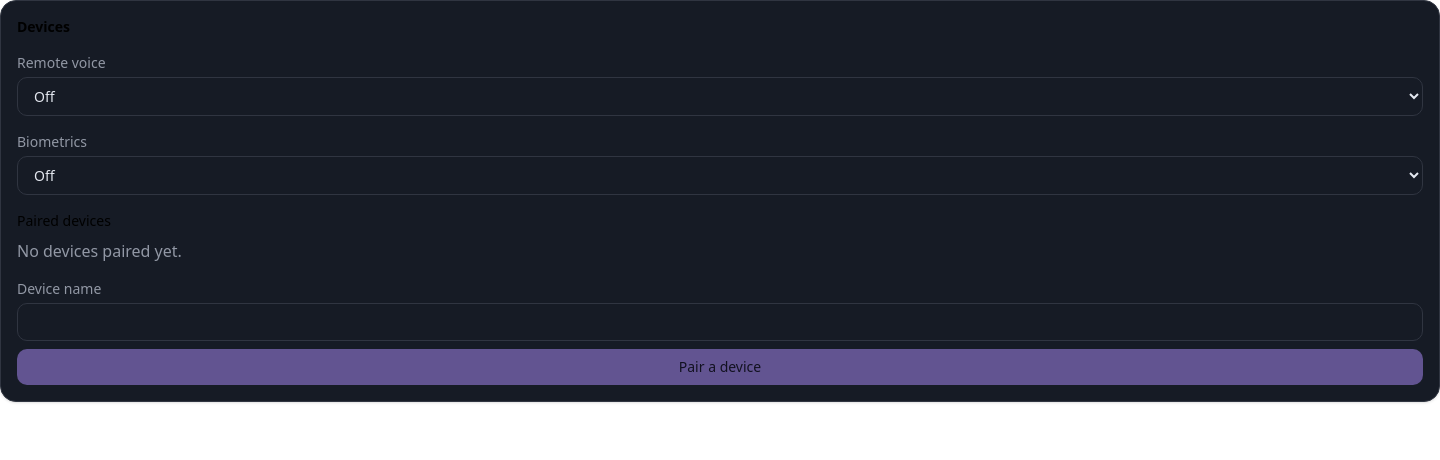
DevicesPanel (TK-342 AC4: independent consent toggles + restart notice) › switching Remote voice On never touches Biometrics, and shows the restart notice
Expected: the text "No devices paired yet." is shown, [17,240,182,262]
Expected: the text "Restart Wombat to apply these changes." is not shown
Select "On" in the dropdown labelled "Remote voice" at (720, 96), box [17,77,1423,116]
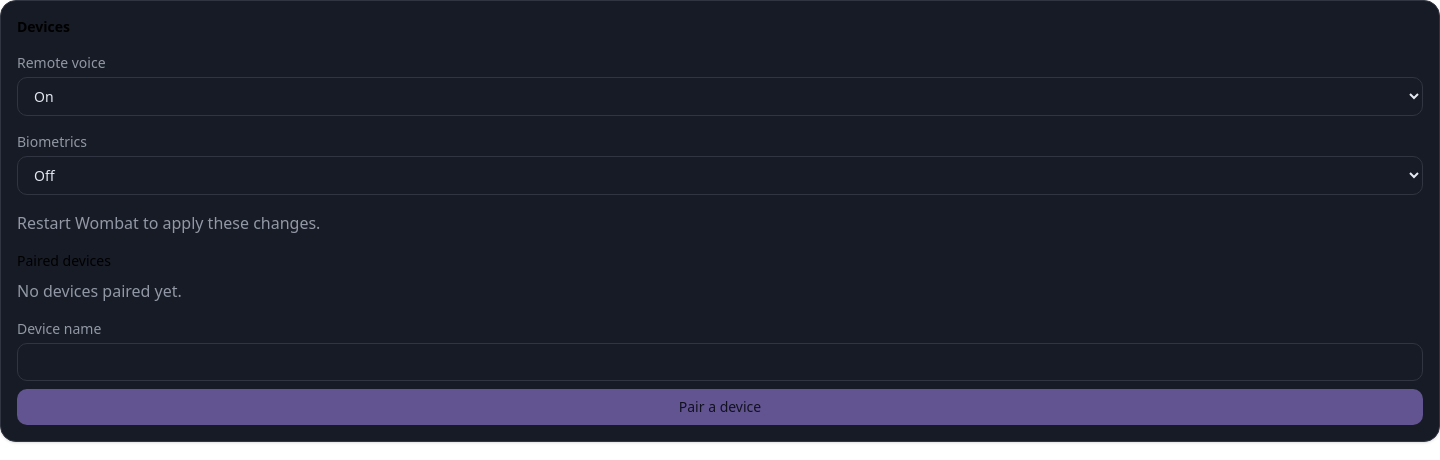
Expected: the dropdown labelled "Biometrics" shows "Off", [17,156,1423,195]
Now the text "Restart Wombat to apply these changes." is shown, box [17,212,320,234]
